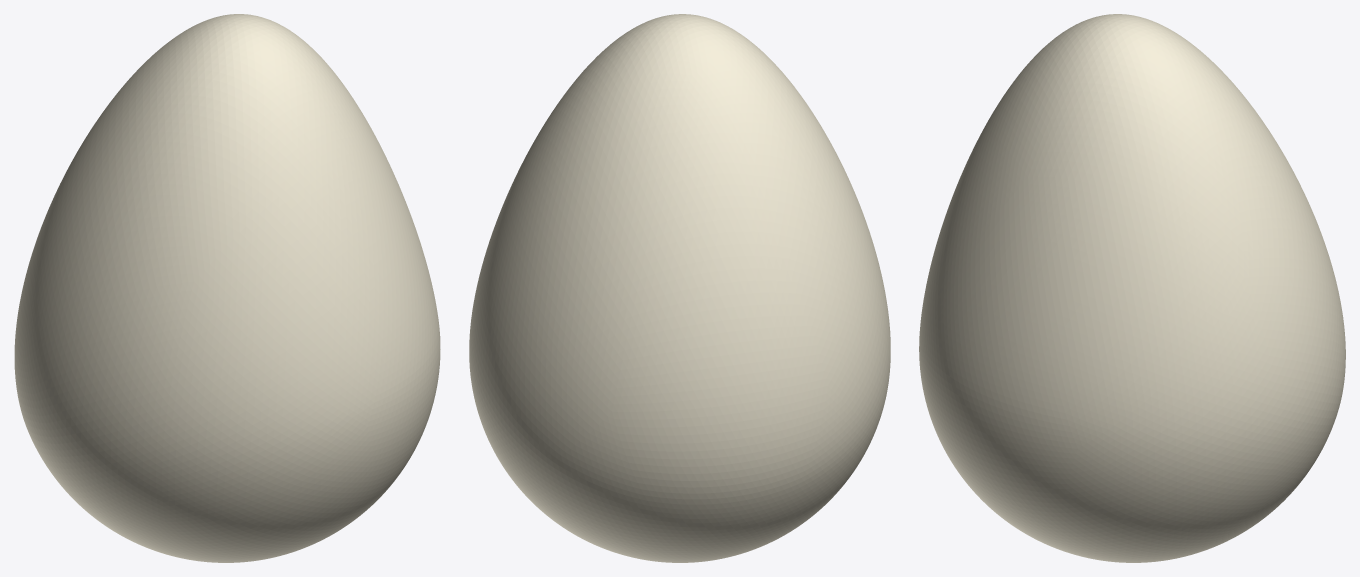
Rendered from egg.glb.
3 renders of one model, left to right at view 1: azimuth 30°, elevation 25°; view 2: azimuth 150°, elevation 25°; view 3: azimuth 270°, elevation 25°, orthographic.
Visible parts, largest first — view 1: Icosphere; view 2: Icosphere; view 3: Icosphere.
Part boxes in pixels (left/top/right/bottom): Icosphere: left=14, top=14, right=440, bottom=562; Icosphere: left=469, top=14, right=890, bottom=562; Icosphere: left=919, top=14, right=1345, bottom=562.
Bounding box in the file's own units: 1.99 × 2.7 × 1.99.
